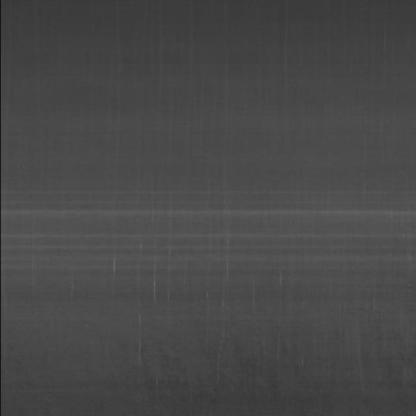waist_folding: (0, 182, 392, 316)
